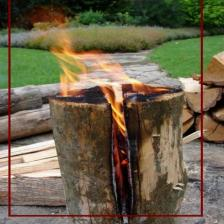fire: (8, 0, 202, 216)
